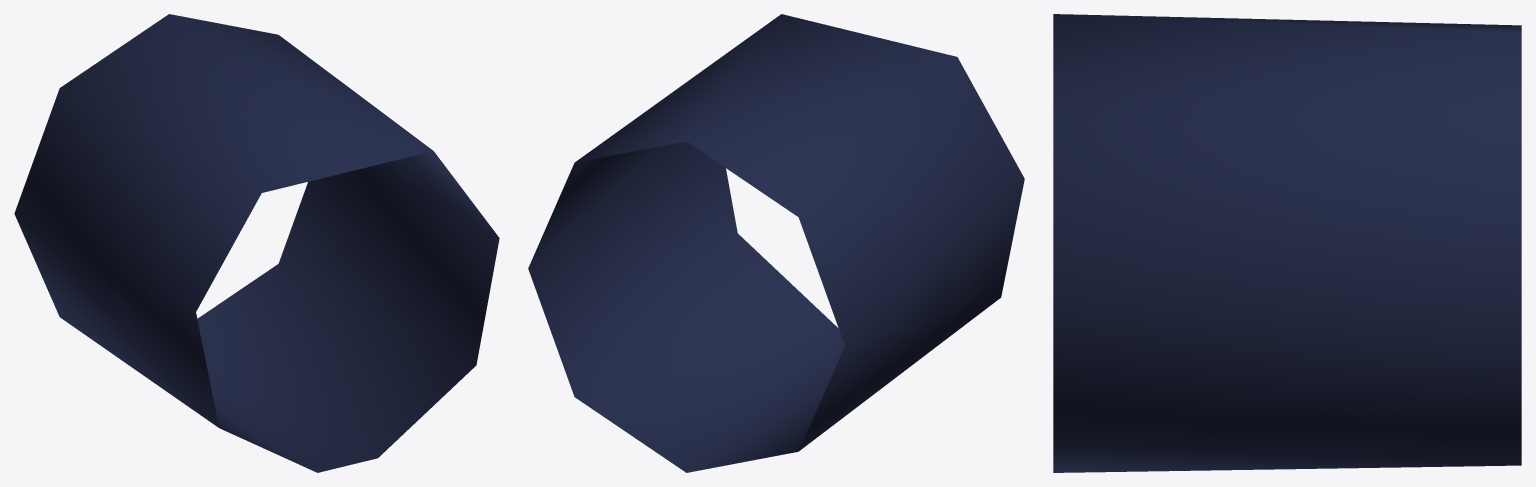
3 views of the same model, side by side, from view 1: azimuth 30°, elevation 25°; view 2: azimuth 150°, elevation 25°; view 3: azimuth 270°, elevation 25° (orthographic). The views are drawn at different scales.
Size of the model in its own units: 0.3177 by 0.3177 by 0.3177.
